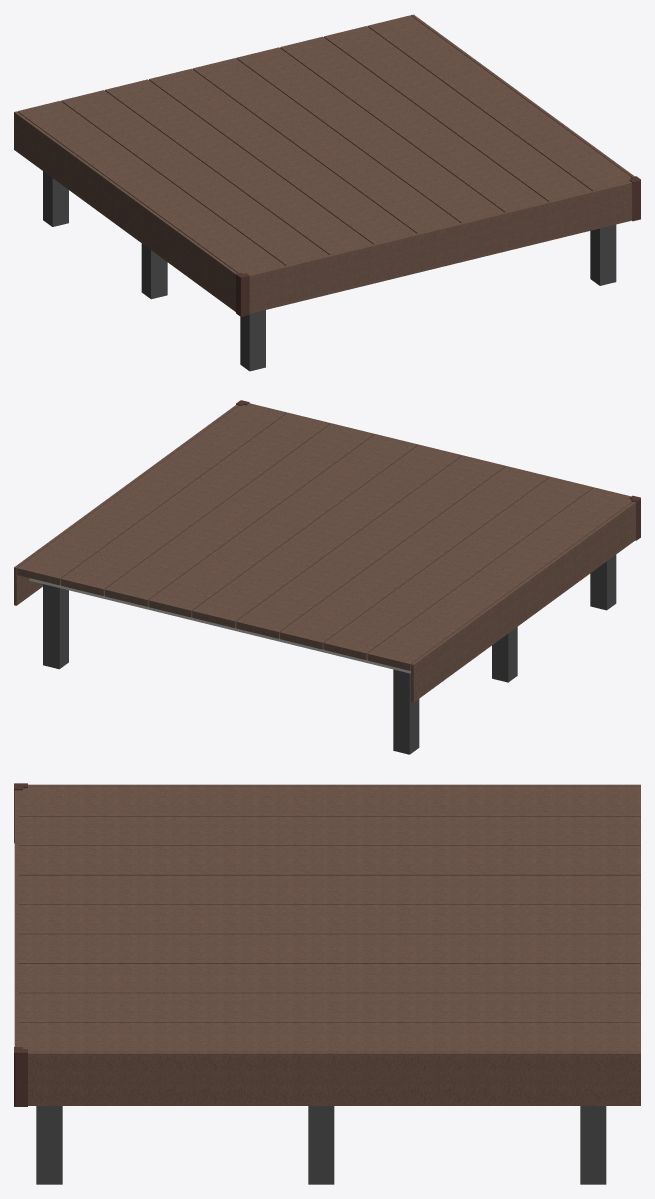
The model's file is ecowood2deck195_1k-6s_darkbrown.fbx.
The picture shows the model from 3 angles, top to bottom: view 1: azimuth 30°, elevation 25°; view 2: azimuth 150°, elevation 25°; view 3: azimuth 270°, elevation 25°; orthographic projection. The views are drawn at different scales.
Visible parts, largest first — view 1: ecowood2deck195_1k-6s_darkbrown; view 2: ecowood2deck195_1k-6s_darkbrown; view 3: ecowood2deck195_1k-6s_darkbrown.
Boxes of the visible parts, bbox=[...] form: ecowood2deck195_1k-6s_darkbrown: bbox=[14, 14, 640, 371]; ecowood2deck195_1k-6s_darkbrown: bbox=[14, 400, 640, 754]; ecowood2deck195_1k-6s_darkbrown: bbox=[14, 783, 640, 1184].
Bounding box in the file's own units: 183 × 45.4 × 180.
4 materials, 2 textured.
